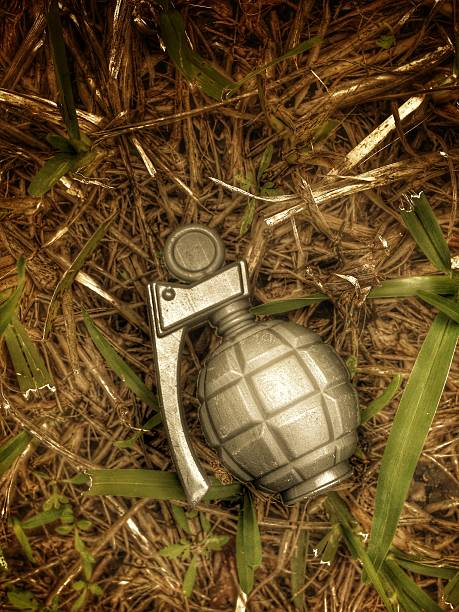e1: (147, 220, 363, 503)
